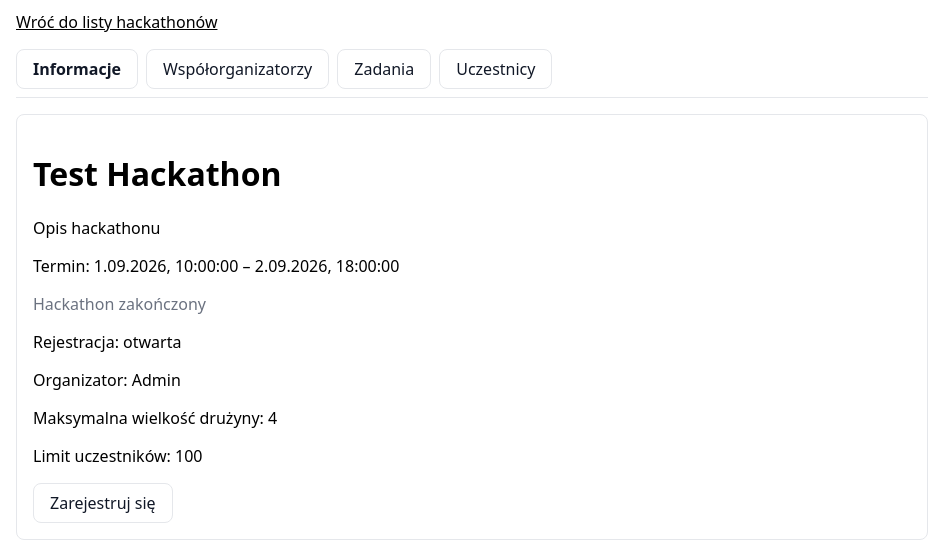
Test: HackathonDetailsPage › allows the owner to add a co-organizer and refreshes the displayed list
Click the tab "Współorganizatorzy" at (238, 69), box [146,49,329,89]
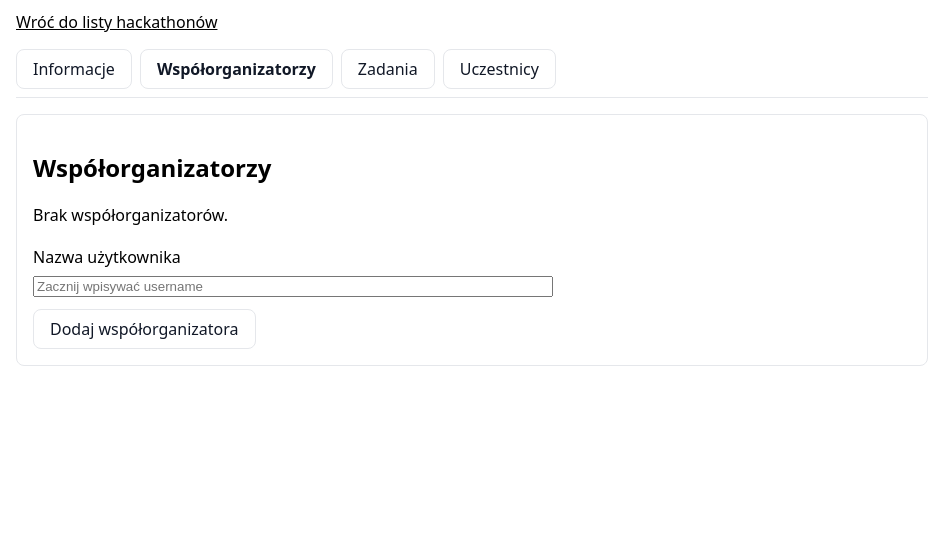
Type "Jan" into the dropdown labelled "Nazwa użytkownika" at (293, 286), box [33,276,553,297]
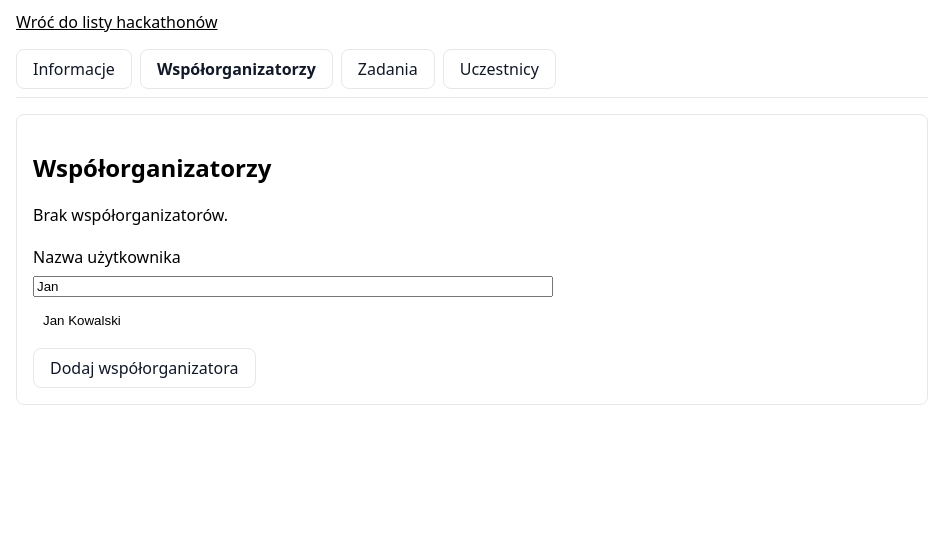
Click the option "Jan Kowalski" at (82, 320), box [33,305,553,336]
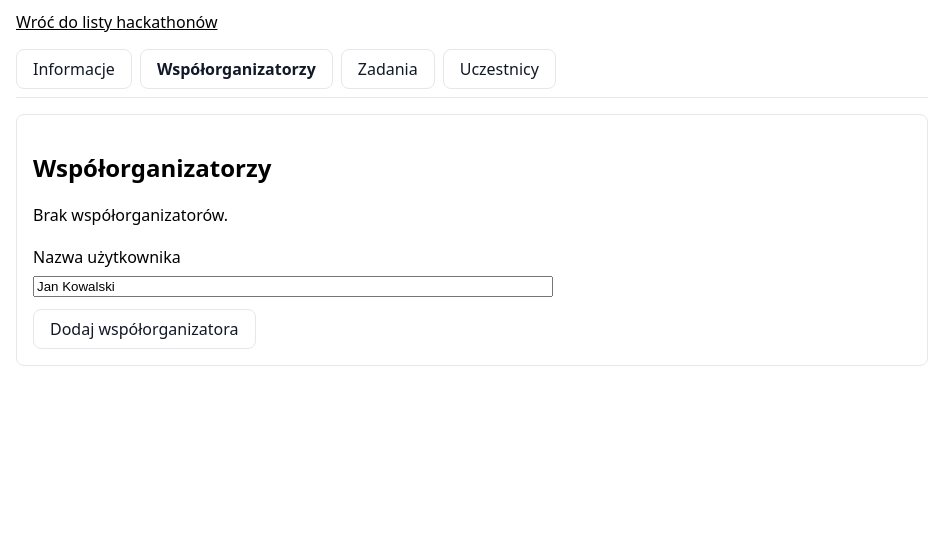
Click the button "Dodaj współorganizatora" at (144, 329), box [33,309,256,349]
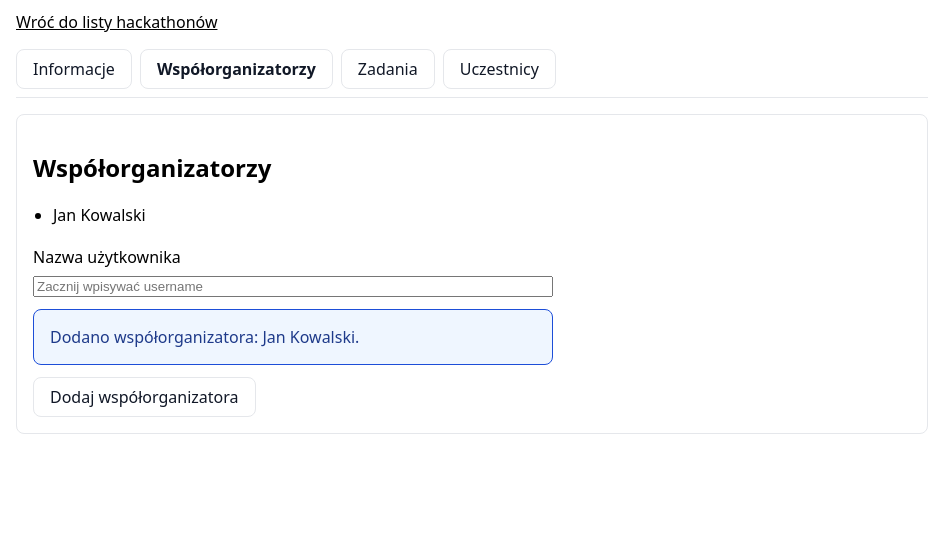
expect the list item "Jan Kowalski" is shown: met, box [53,204,146,226]
expect the text "Dodano współorganizatora: Jan Kowalski." is shown: met, box [33,309,553,365]
